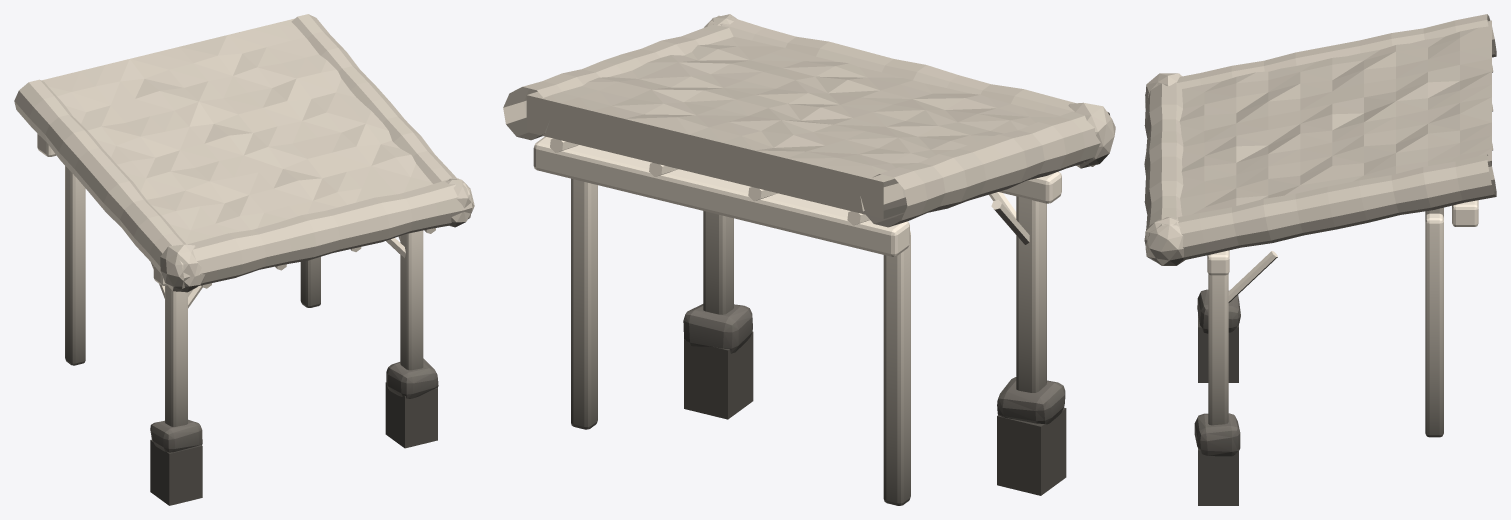
The model's file is SM_VK_LeanTo_Thatch_Low.fbx.
3 views of the same model, side by side, from view 1: azimuth 30°, elevation 25°; view 2: azimuth 150°, elevation 25°; view 3: azimuth 270°, elevation 25° (orthographic). The views are drawn at different scales.
Visible parts, largest first — view 1: SM_VK_LeanTo_Thatch_Low.001; view 2: SM_VK_LeanTo_Thatch_Low.001; view 3: SM_VK_LeanTo_Thatch_Low.001.
Boxes of the visible parts, bbox=[...] form: SM_VK_LeanTo_Thatch_Low.001: bbox=[14, 14, 474, 505]; SM_VK_LeanTo_Thatch_Low.001: bbox=[503, 14, 1115, 505]; SM_VK_LeanTo_Thatch_Low.001: bbox=[1144, 14, 1496, 505].
Size of the model in its own units: 3.73 by 3.76 by 3.44.
